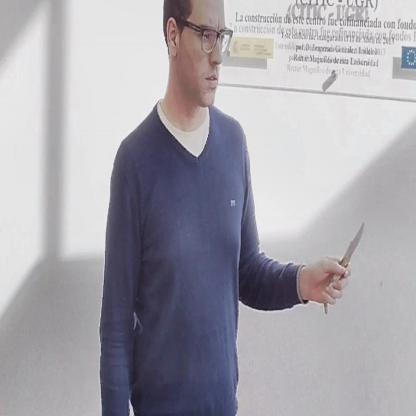knife: (319, 213, 367, 322)
